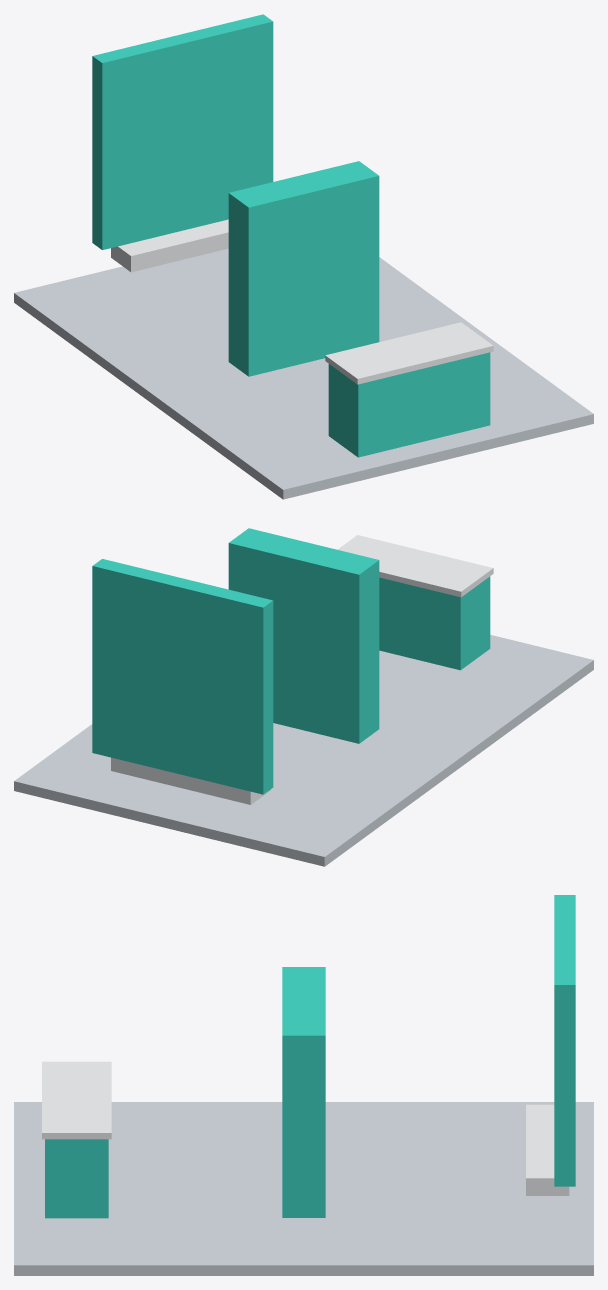
The picture shows the model from 3 angles, top to bottom: view 1: azimuth 30°, elevation 25°; view 2: azimuth 150°, elevation 25°; view 3: azimuth 270°, elevation 25°; orthographic projection. The views are drawn at different scales.
Parts seen in each view (by area): view 1: Exhibition Booth Concept; view 2: Exhibition Booth Concept; view 3: Exhibition Booth Concept.
Boxes of the visible parts, bbox=[...] form: Exhibition Booth Concept: bbox=[14, 14, 593, 499]; Exhibition Booth Concept: bbox=[14, 528, 593, 866]; Exhibition Booth Concept: bbox=[14, 895, 593, 1275].
Bounding box in the file's own units: 4 × 2.9 × 6.
